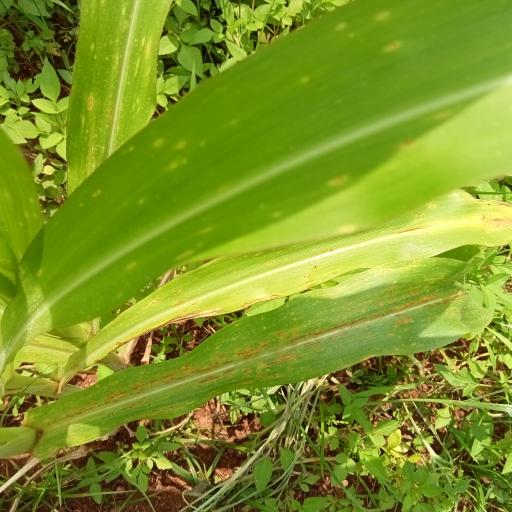Corn_Brown_Spots: (0, 0, 512, 447)
